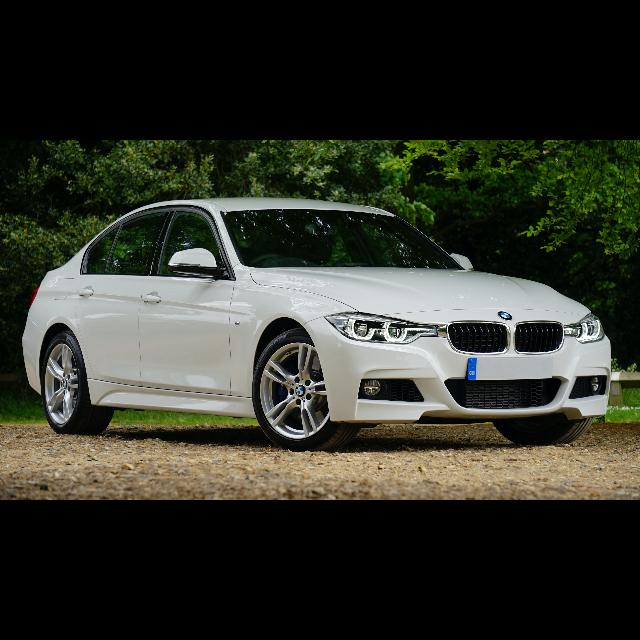cars: (19, 192, 615, 454)
